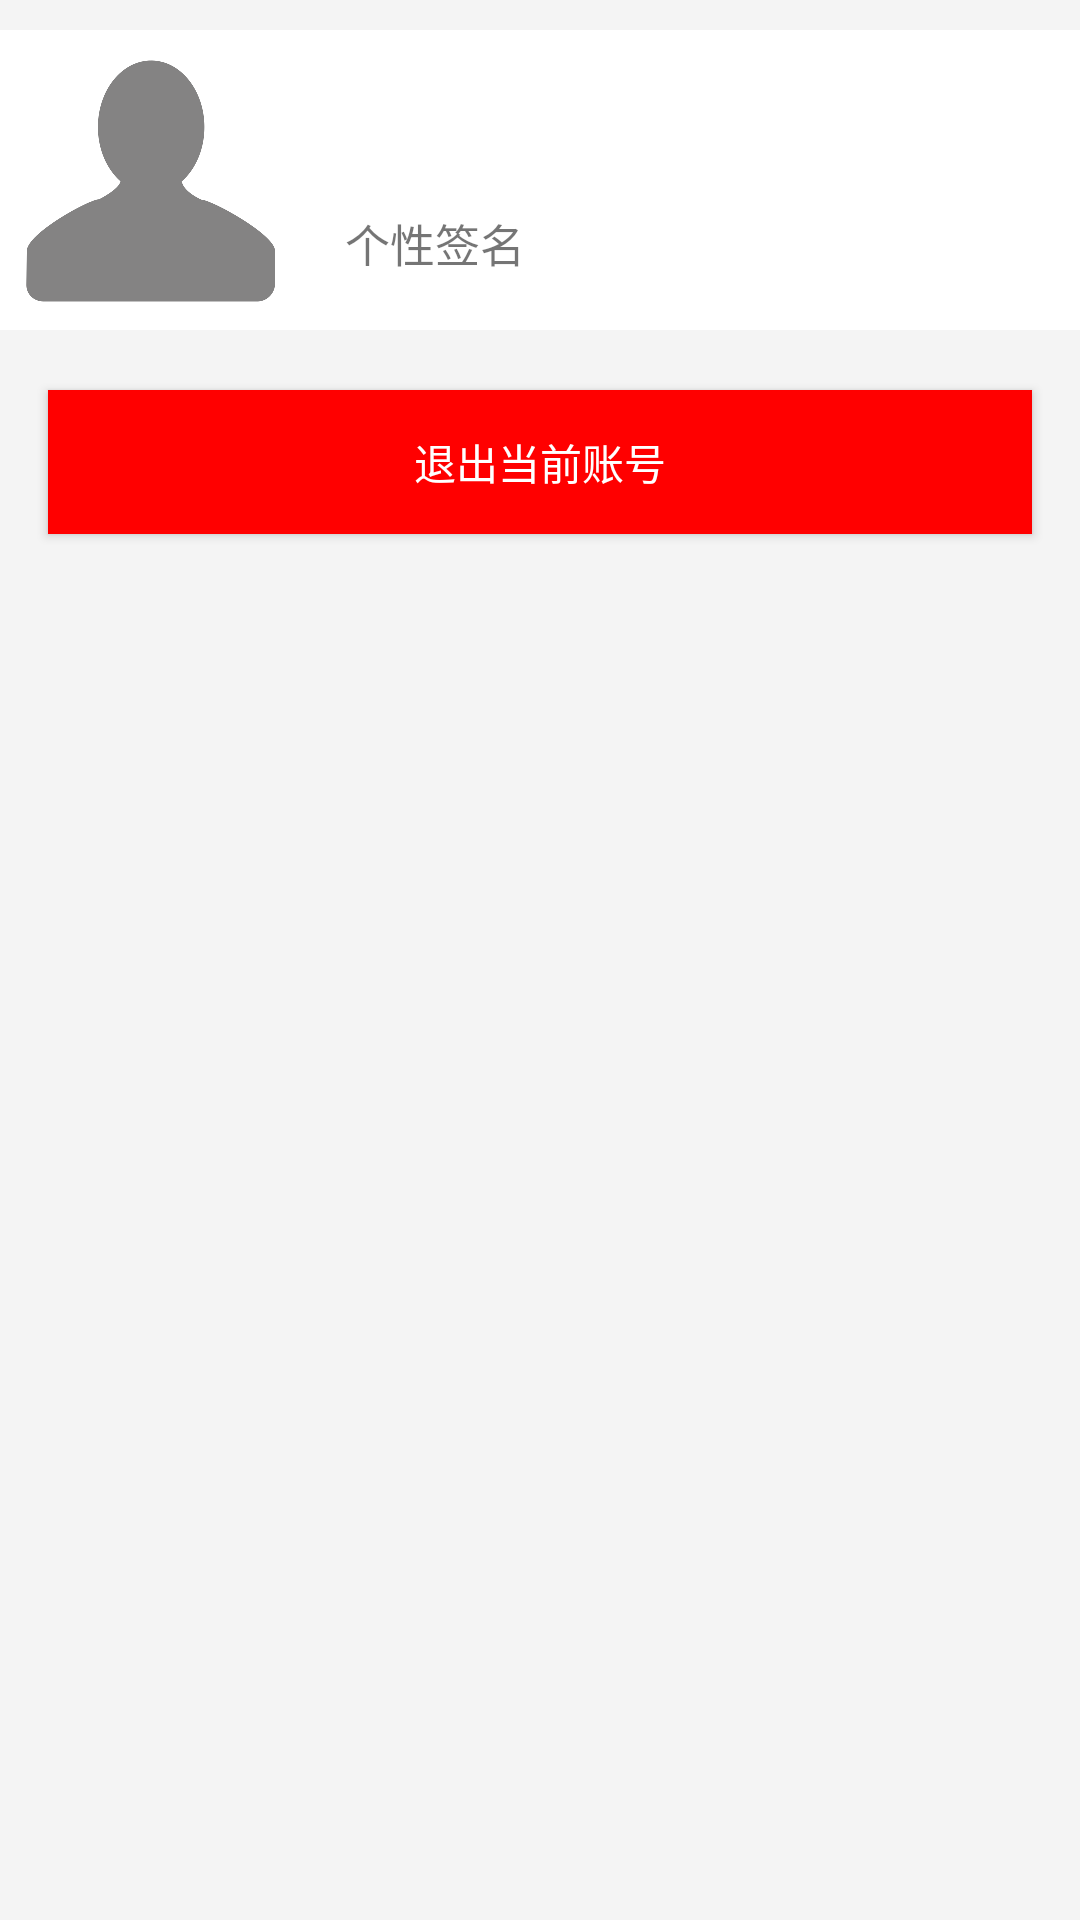

Named icons in this screenshot (1080px x 1920px) and their bounding boxes, (x1, y1, x2, y2):
touxiang: (26, 60, 275, 302)
